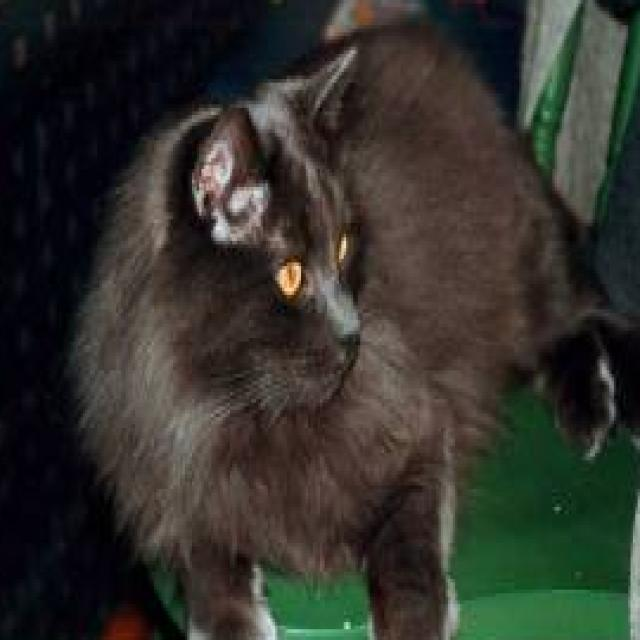Maine Coon: (66, 14, 628, 640)
